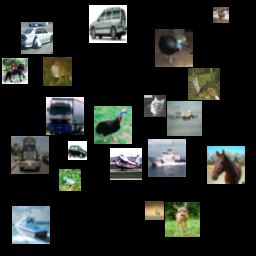airplane: (167, 101, 202, 136), (110, 148, 142, 180)
automobile: (89, 5, 127, 43), (21, 22, 53, 54), (68, 141, 87, 160)
bird: (155, 29, 193, 67), (94, 106, 132, 144)
cat: (144, 95, 166, 117)
deer: (165, 202, 200, 237), (188, 68, 220, 100), (145, 201, 164, 220)
frog: (43, 57, 72, 86), (59, 169, 81, 191)
ship: (12, 206, 50, 244), (148, 139, 186, 177)
